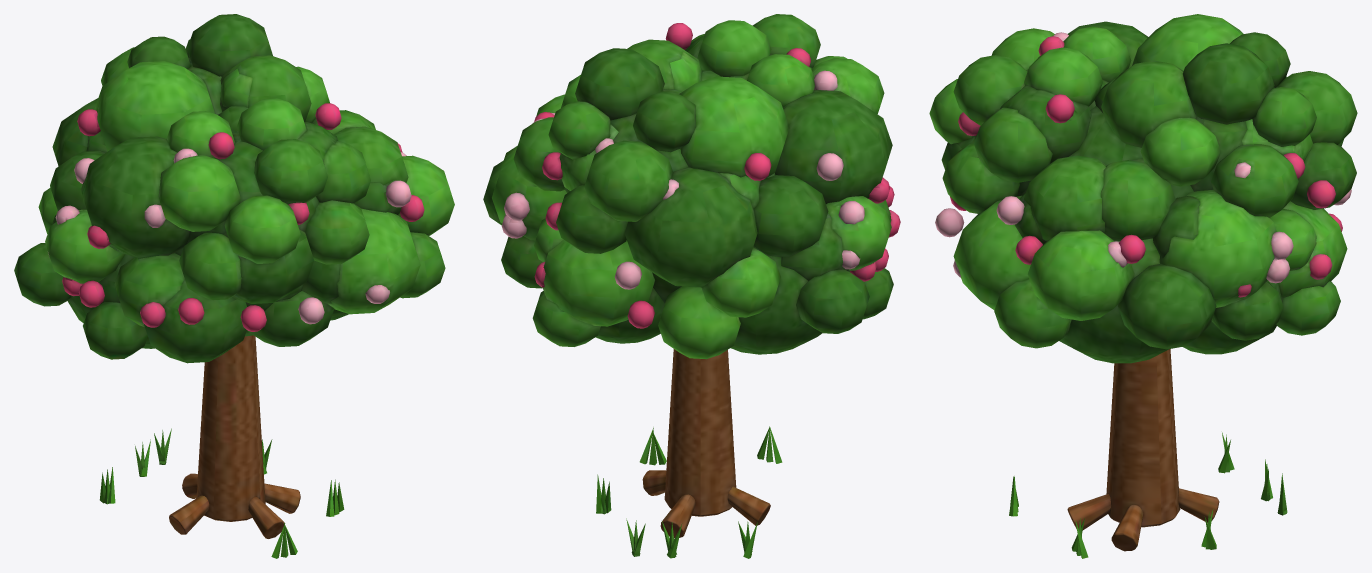
The model's file is crabapple_tree.glb.
3 renders of one model, left to right at view 1: azimuth 30°, elevation 25°; view 2: azimuth 150°, elevation 25°; view 3: azimuth 270°, elevation 25°, orthographic. The views are drawn at different scales.
Visible parts, largest first — view 1: crown, crabapple_tree; view 2: crown, crabapple_tree; view 3: crown, crabapple_tree.
Boxes of the visible parts, x1,y1,x2,y2 form: crown: (14, 14, 454, 363); crabapple_tree: (99, 335, 344, 558); crown: (483, 14, 900, 359); crabapple_tree: (596, 349, 782, 558); crown: (929, 14, 1357, 363); crabapple_tree: (1009, 349, 1287, 558).
Size of the model in its own units: 1.04 by 1.21 by 0.9437.
Materials: 1 (1 with a texture image).
